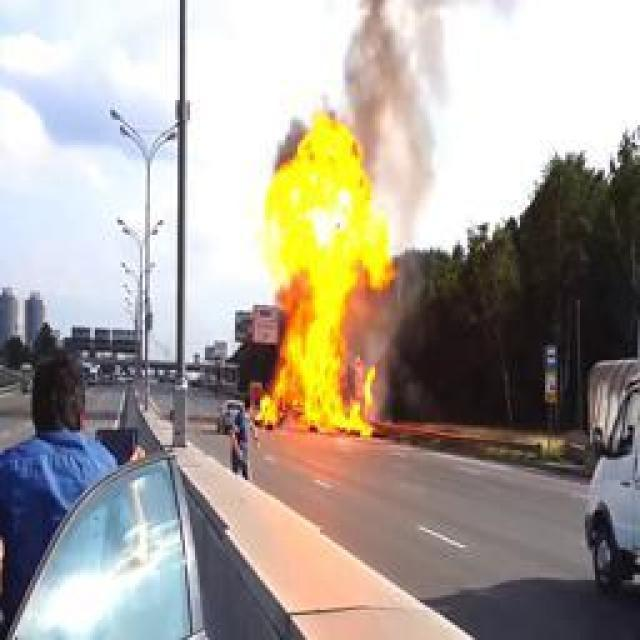Fire: (260, 108, 400, 438)
